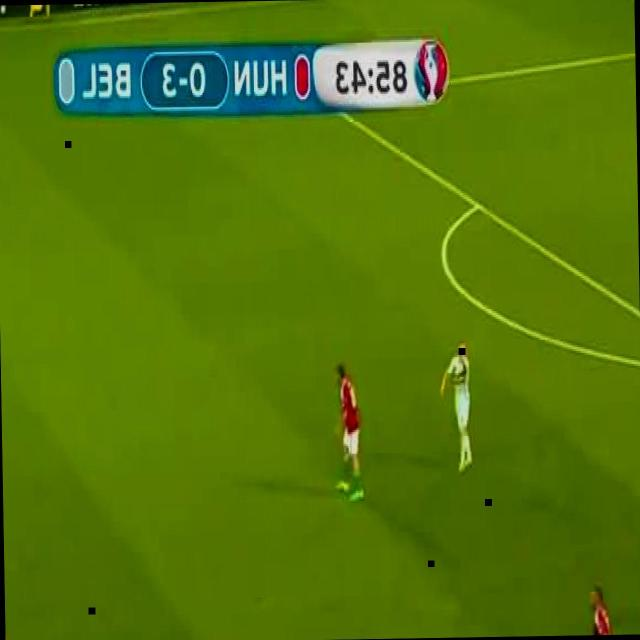player-white: (332, 364, 364, 504), (440, 340, 472, 476), (589, 583, 635, 635)
